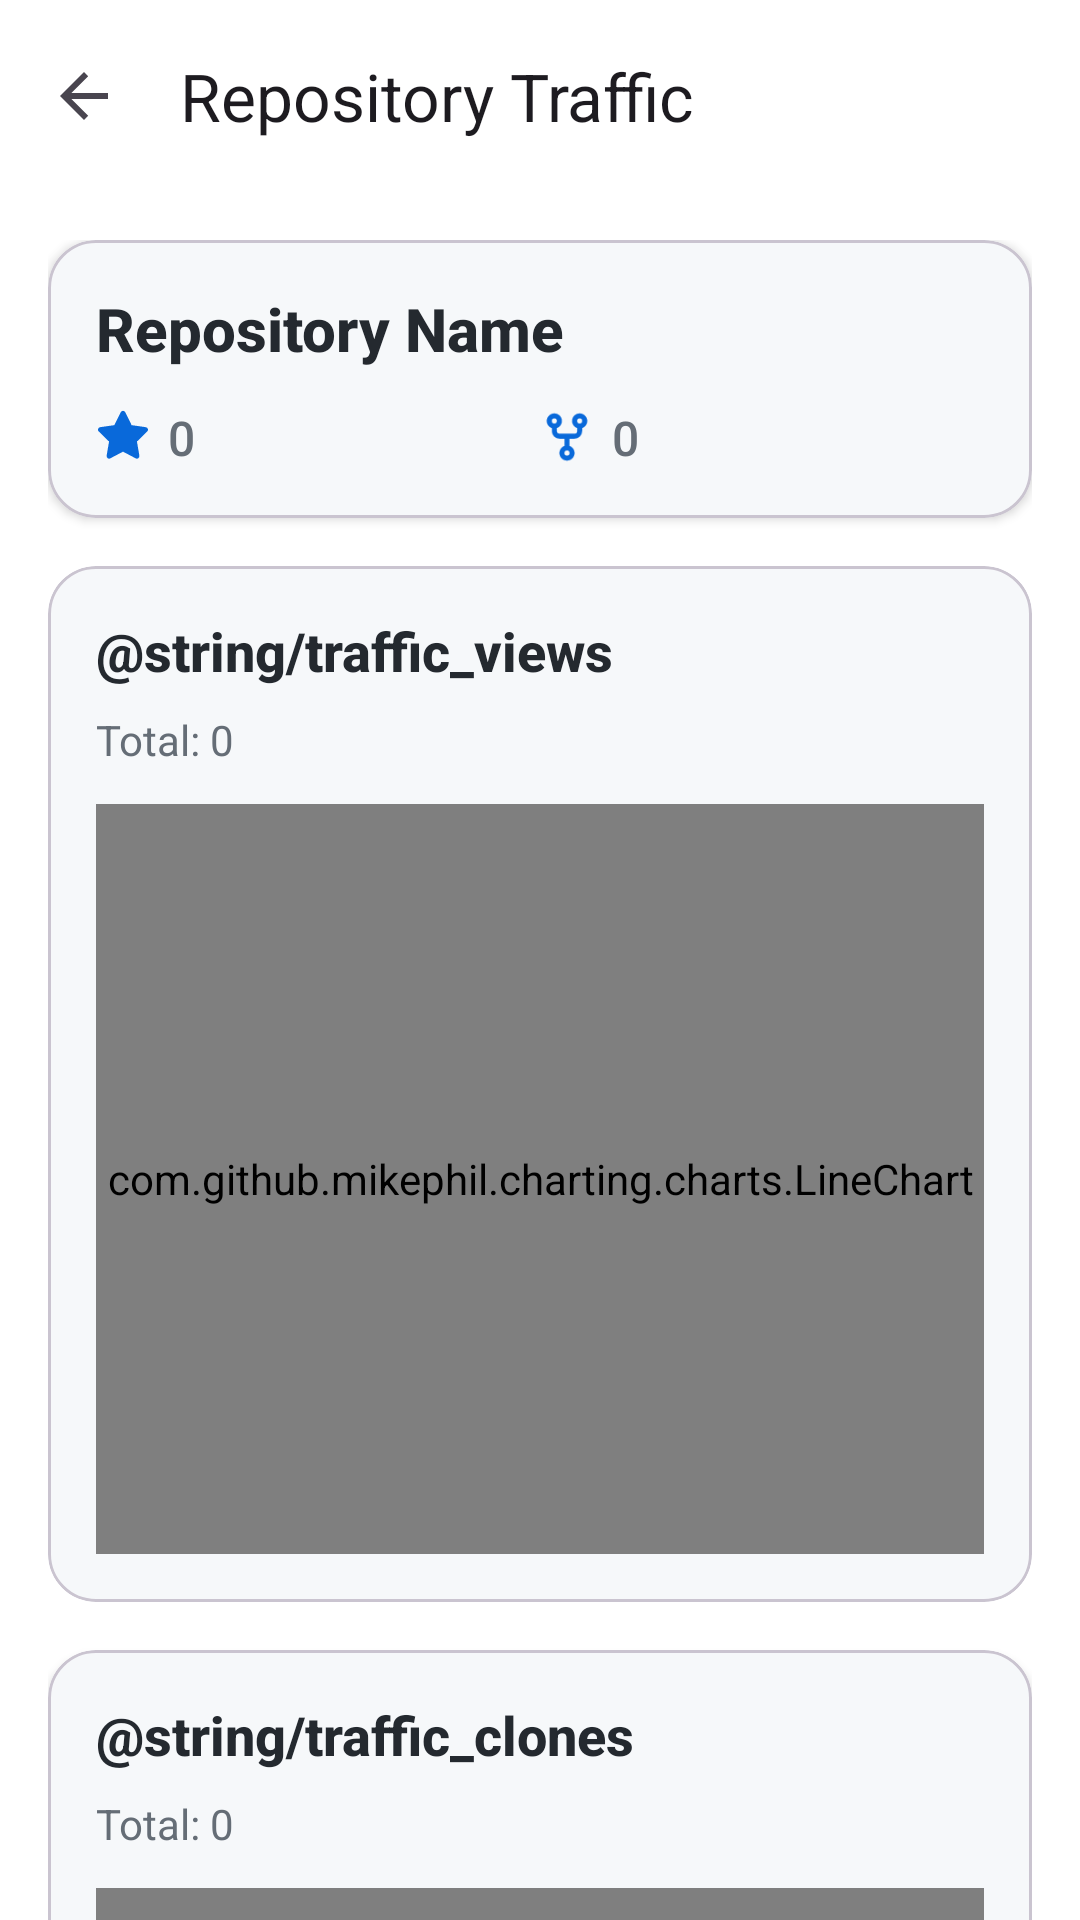

Where to tap for icons on this 1080*1920 app screen, as (x,y):
Forks: (567,437)
Stars: (123,435)
